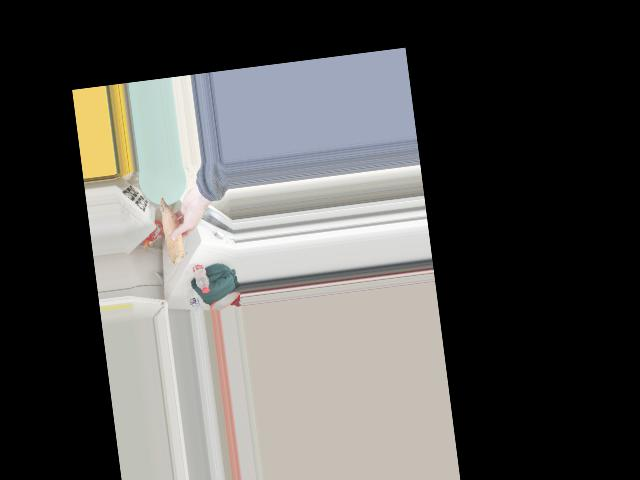sweet_potato: (154, 196, 189, 268)
